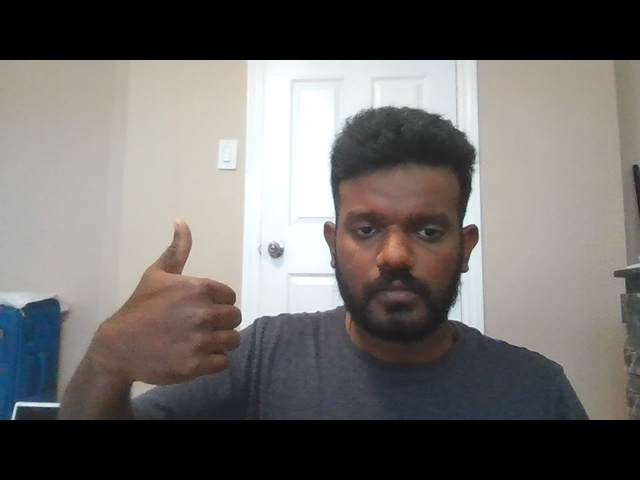yes: (97, 215, 244, 387)
